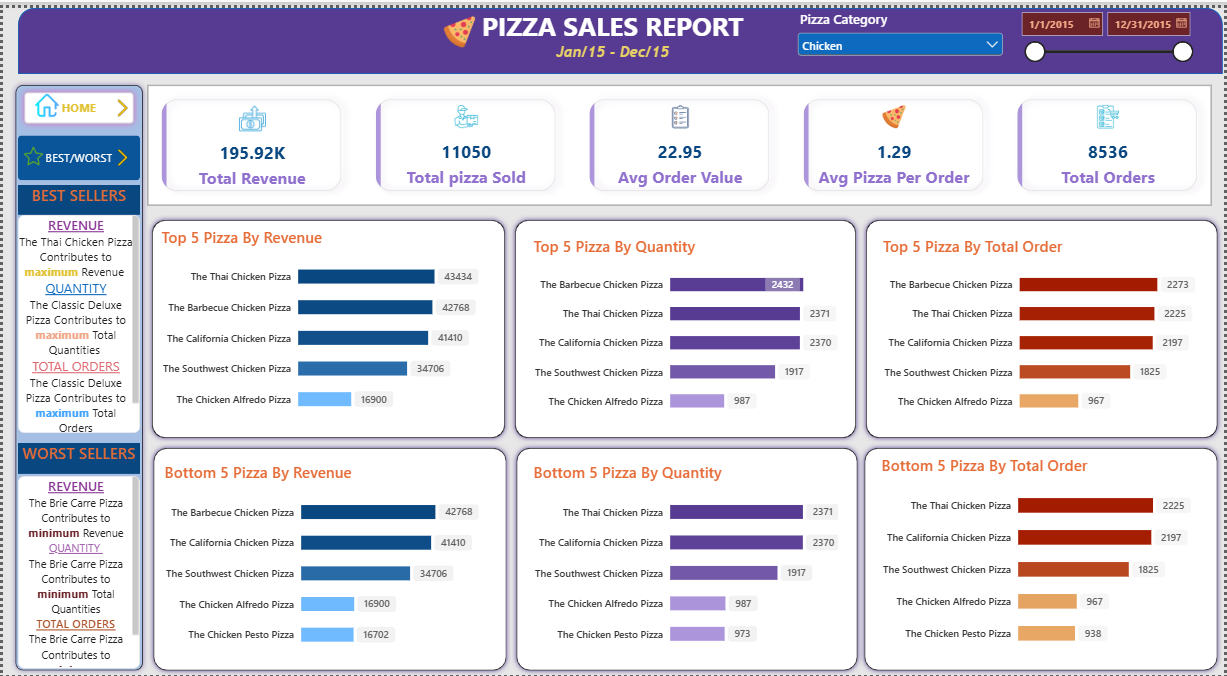

The dashboard page shown, as its layout file describes it:
{"tool":"powerbi","page":{"name":"BEST/WORST","canvas":[1500,820],"ordinal":1},"visuals":[{"type":"cardVisual","fields":{"Data":["public pizza_sales.Total Revenue","public pizza_sales.Total pizza Sold","public pizza_sales.avg_amount_spent_per_order","public pizza_sales.Average Pizza Per Order","public pizza_sales.Total Orders"]},"box":[177.7,94.5,1312.2,149.4],"z":0},{"type":"shape","box":[17.8,0,1481.1,81.1],"z":1000},{"type":"textbox","box":[529.6,0,440.7,59],"z":2000},{"type":"textbox","box":[621.5,42.4,256.3,51.6],"z":3000},{"type":"image","box":[529.3,7.4,63.3,43.3],"z":4000},{"type":"shape","box":[178.9,534.8,446.3,285.8],"z":9000},{"type":"shape","box":[625.2,534.8,431.5,285.8],"z":10000},{"type":"shape","box":[1053,534.8,446.3,285.8],"z":11000},{"type":"shape","box":[8.9,87.8,168.9,732.2],"z":15000},{"type":"textbox","box":[17.8,217.8,150,36.7],"z":16000},{"type":"textbox","box":[18.1,254.2,150,268.1],"z":17000},{"type":"textbox","box":[17.8,574.4,150,236.7],"z":18000},{"type":"textbox","box":[17.8,535.6,150,37.8],"z":19000},{"type":"slicer","fields":{"Values":["public pizza_sales.pizza_category"]},"box":[971.2,2.5,262.3,81.1],"z":20000},{"type":"slicer","fields":{"Values":["public pizza_sales.order_date"]},"box":[1245,0,221.2,73.8],"z":21000},{"type":"shape","box":[177,254.5,446.3,280.3],"z":21001},{"type":"shape","box":[623.3,254.5,431.5,280.3],"z":21002},{"type":"shape","box":[1054.8,254.5,444.4,280.3],"z":21003},{"type":"barChart","title":"Top 5 Pizza By Revenue","fields":{"Category":["public pizza_sales.pizza_name"],"Y":["public pizza_sales.Total Revenue"]},"box":[178.9,254.5,431.5,267.4],"z":21004},{"type":"barChart","title":"Bottom 5 Pizza By Revenue","fields":{"Category":["public pizza_sales.pizza_name"],"Y":["public pizza_sales.Total Revenue"]},"box":[183.3,544.4,431.5,267.4],"z":21005},{"type":"barChart","title":"Top 5 Pizza By Quantity","fields":{"Category":["public pizza_sales.pizza_name"],"Y":["public pizza_sales.Total pizza Sold"]},"box":[636.4,264.9,406.5,257.1],"z":21006},{"type":"barChart","title":"Bottom 5 Pizza By Quantity","fields":{"Category":["public pizza_sales.pizza_name"],"Y":["public pizza_sales.Total pizza Sold"]},"box":[636.4,544.2,406.5,266.2],"z":21007},{"type":"barChart","title":"Top 5 Pizza By Total Order","fields":{"Category":["public pizza_sales.pizza_name"],"Y":["public pizza_sales.Total Orders"]},"box":[1066.2,266.2,423.4,257.1],"z":21008},{"type":"barChart","title":"Bottom 5 Pizza By Total Order","fields":{"Category":["public pizza_sales.pizza_name"],"Y":["public pizza_sales.Total Orders"]},"box":[1064.5,535.1,423.5,276.1],"z":21009},{"type":"pageNavigator","box":[18.5,96.3,150.9,54.6],"z":21010},{"type":"pageNavigator","box":[18.5,156.5,150.9,55.6],"z":21011},{"type":"image","box":[39,105.5,30.5,29.7],"z":21012},{"type":"image","box":[136.2,140.1,21.1,87.5],"z":21013},{"type":"image","box":[136.4,79.3,21.1,87.5],"z":21014},{"type":"image","box":[25.7,141.4,23.6,80],"z":21015}]}

Visuals, with their boxes in screenshot pixels (x1, y1, x2, y2), scaled from the page's 1500x820 canvas onto the 1227x676 screenshot:
cardVisual - public pizza_sales.Total Revenue x public pizza_sales.Total pizza Sold: bbox(145, 78, 1219, 201)
shape: bbox(15, 0, 1226, 67)
textbox: bbox(433, 0, 794, 49)
textbox: bbox(508, 35, 718, 77)
image: bbox(433, 6, 485, 42)
shape: bbox(146, 441, 511, 675)
shape: bbox(511, 441, 864, 675)
shape: bbox(861, 441, 1226, 675)
shape: bbox(7, 72, 145, 675)
textbox: bbox(15, 180, 137, 210)
textbox: bbox(15, 210, 138, 431)
textbox: bbox(15, 474, 137, 669)
textbox: bbox(15, 442, 137, 473)
slicer - public pizza_sales.pizza_category: bbox(794, 2, 1009, 69)
slicer - public pizza_sales.order_date: bbox(1018, 0, 1199, 61)
shape: bbox(145, 210, 510, 441)
shape: bbox(510, 210, 863, 441)
shape: bbox(863, 210, 1226, 441)
"Top 5 Pizza By Revenue" barChart: bbox(146, 210, 499, 430)
"Bottom 5 Pizza By Revenue" barChart: bbox(150, 449, 503, 669)
"Top 5 Pizza By Quantity" barChart: bbox(521, 218, 853, 430)
"Bottom 5 Pizza By Quantity" barChart: bbox(521, 449, 853, 668)
"Top 5 Pizza By Total Order" barChart: bbox(872, 219, 1218, 431)
"Bottom 5 Pizza By Total Order" barChart: bbox(871, 441, 1217, 669)
pageNavigator: bbox(15, 79, 139, 124)
pageNavigator: bbox(15, 129, 139, 175)
image: bbox(32, 87, 57, 111)
image: bbox(111, 115, 129, 188)
image: bbox(112, 65, 129, 138)
image: bbox(21, 117, 40, 183)
